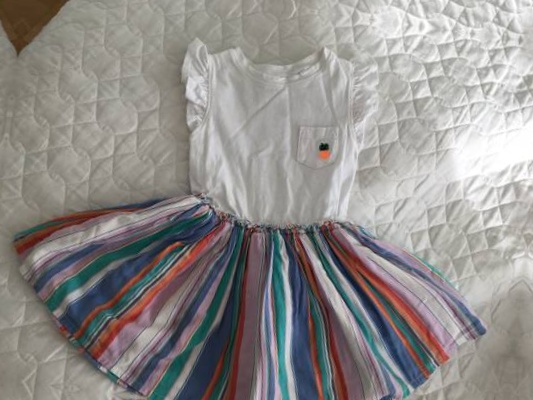Dress: (0, 7, 533, 400), (0, 384, 482, 400), (518, 79, 533, 400), (58, 0, 533, 10), (0, 0, 0, 366)
